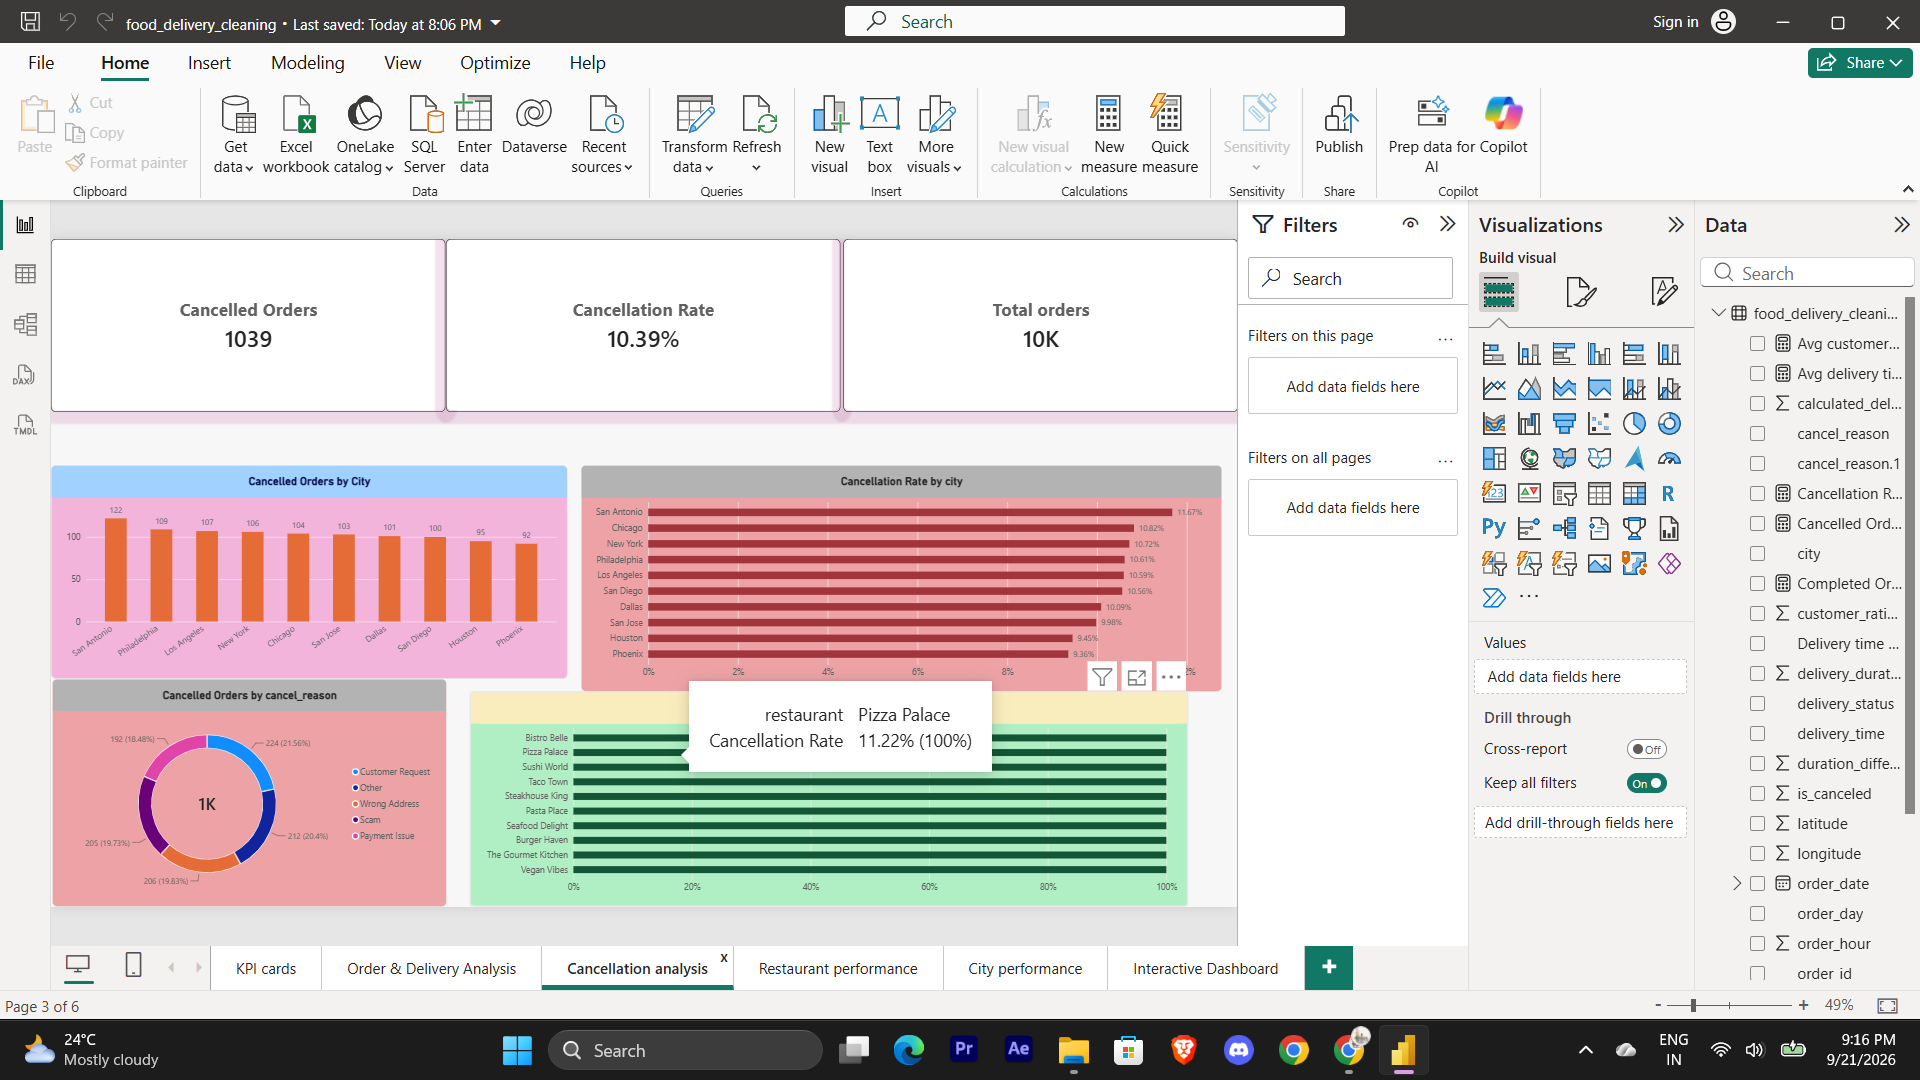

What the dashboard file says about the page in this screenshot:
{"tool":"powerbi","page":{"name":"Cancellation analysis","canvas":[1920,1080],"ordinal":2},"visuals":[{"type":"cardVisual","fields":{"Data":["food_delivery_cleaning.Cancelled Orders"]},"box":[0,0,638.1,279.9],"z":0},{"type":"cardVisual","fields":{"Data":["food_delivery_cleaning.Cancellation Rate"]},"box":[640.1,0,638.1,279.9],"z":1000},{"type":"cardVisual","fields":{"Data":["food_delivery_cleaning.Total orders"]},"box":[1282.3,0,638.1,279.9],"z":2000},{"type":"clusteredColumnChart","title":"Cancelled Orders by City","fields":{"Category":["food_delivery_cleaning.city"],"Y":["food_delivery_cleaning.Cancelled Orders"]},"box":[0,366.4,835.7,345.8],"z":3000},{"type":"barChart","title":"Cancellation Rate by city","fields":{"Category":["food_delivery_cleaning.city"],"Y":["food_delivery_cleaning.Cancellation Rate"]},"box":[858.3,366.4,1037.4,366.4],"z":4000},{"type":"donutChart","fields":{"Category":["food_delivery_cleaning.cancel_reason"],"Y":["food_delivery_cleaning.Cancelled Orders"]},"box":[2.1,712.2,638.1,368.4],"z":5000},{"type":"hundredPercentStackedBarChart","fields":{"Category":["food_delivery_cleaning.restaurant"],"Y":["food_delivery_cleaning.Cancellation Rate"]},"box":[677.2,732.8,1163,347.9],"z":6000}]}

Visuals, with their boxes on the page's 1920x1080 design canvas (x1, y1, x2, y2). These are canvas units, not pixel positions in the 1920x1080 screenshot, which may show the page scaled, cropped or inside an application window:
cardVisual - food_delivery_cleaning.Cancelled Orders: 0 0 638 280
cardVisual - food_delivery_cleaning.Cancellation Rate: 640 0 1278 280
cardVisual - food_delivery_cleaning.Total orders: 1282 0 1920 280
"Cancelled Orders by City" clusteredColumnChart: 0 366 836 712
"Cancellation Rate by city" barChart: 858 366 1896 733
donutChart - food_delivery_cleaning.cancel_reason x food_delivery_cleaning.Cancelled Orders: 2 712 640 1081
hundredPercentStackedBarChart - food_delivery_cleaning.restaurant x food_delivery_cleaning.Cancellation Rate: 677 733 1840 1081
